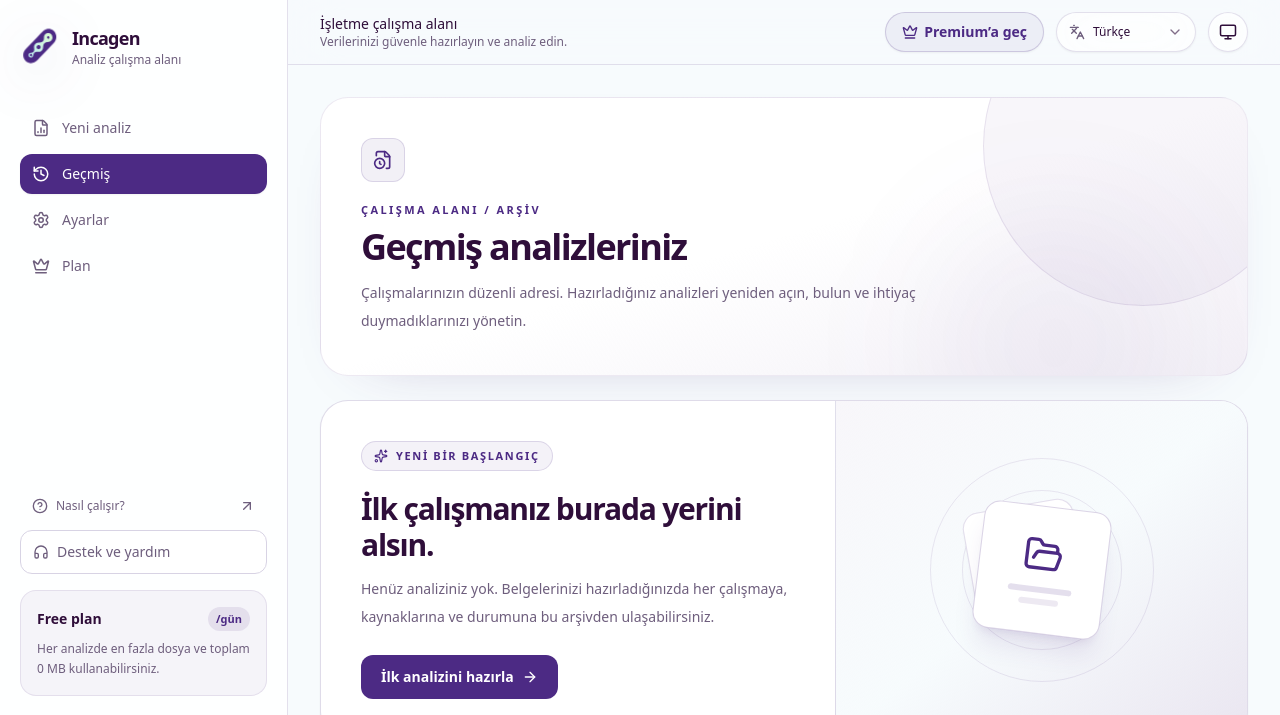
Scenario: App routes › uygulama kabuğu içinde geçmişten ayarlara ve plan karşılaştırmasına geçer
Check: the heading "Geçmiş analizleriniz" is shown, box [361,222,686,270]
Step 1. Click the link "Ayarlar" → (70, 220), box [32,210,109,229]
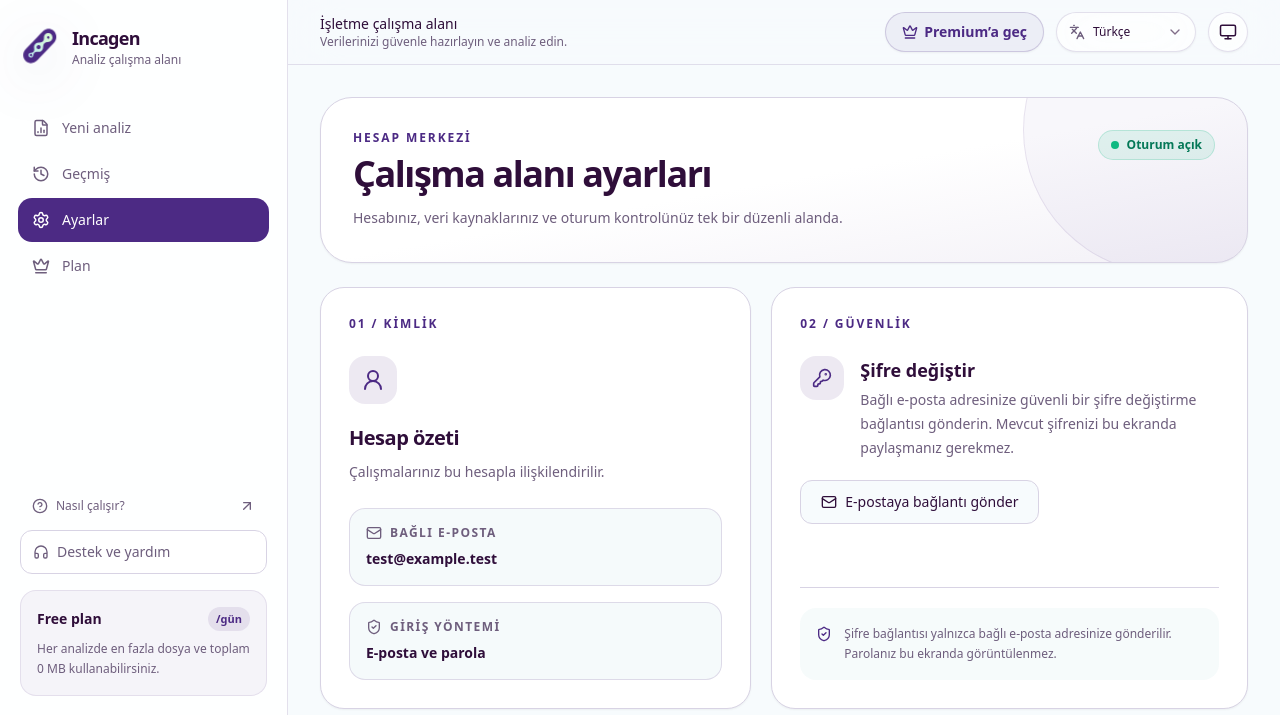
Check: the heading "Çalışma alanı ayarları" is shown, box [353,149,711,198]
Step 2. Click the link "Plan" → (61, 266), box [32,256,91,275]
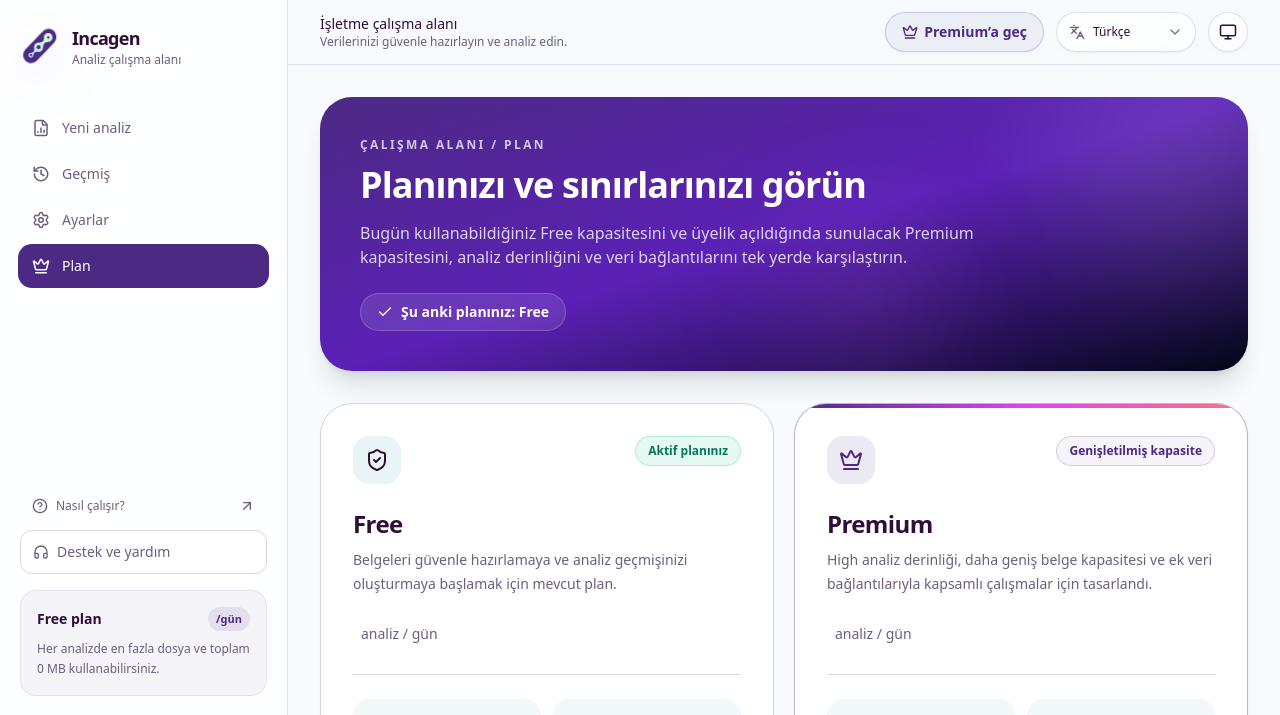
Check: the heading "Planınızı ve sınırlarınızı görün" is shown, box [360,160,866,209]
Check: the heading "Free" is shown, box [353,507,403,540]
Check: the heading "Premium" is shown, box [827,507,933,540]
